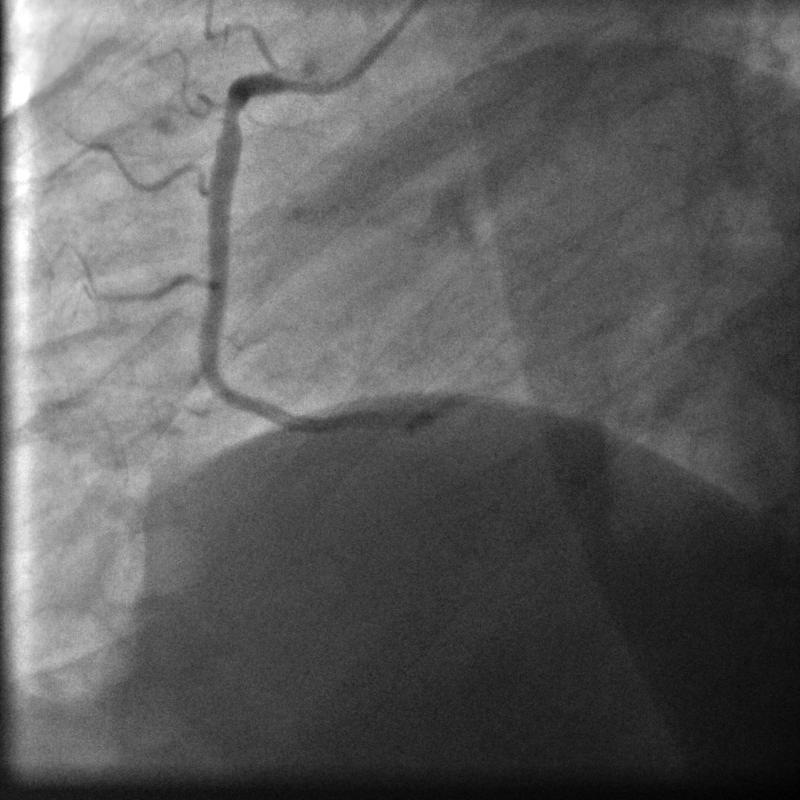Stenosis: (217, 94, 246, 138)
